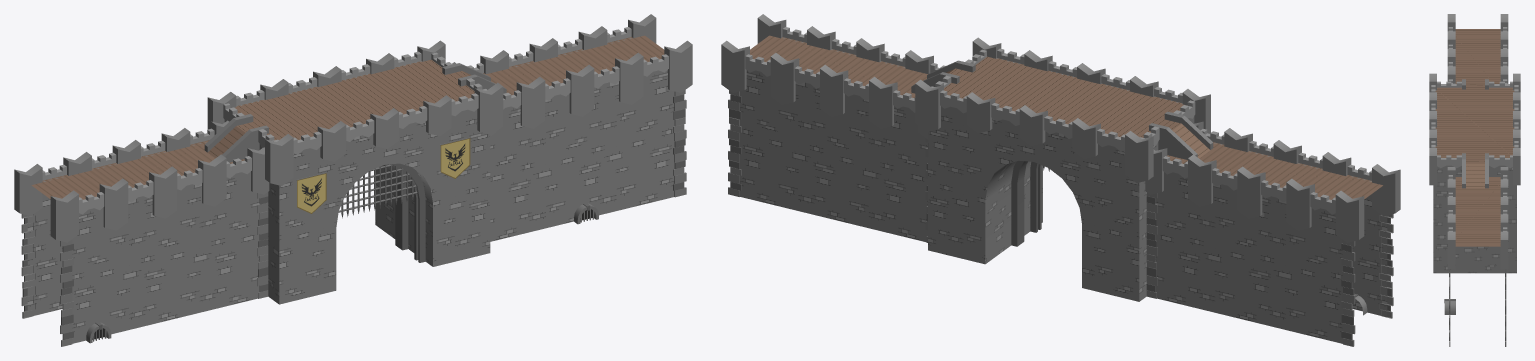
File: gate.gltf
The picture shows the model from 3 angles, left to right: view 1: azimuth 30°, elevation 25°; view 2: azimuth 150°, elevation 25°; view 3: azimuth 270°, elevation 25°; orthographic projection. The views are drawn at different scales.
Visible parts, largest first — view 1: gate; view 2: gate; view 3: gate.
Part boxes in pixels (x1=…): gate: x1=14, y1=14, x2=692, y2=346; gate: x1=721, y1=14, x2=1400, y2=346; gate: x1=1429, y1=14, x2=1520, y2=346.
Size of the model in its own units: 59.5 by 14.85 by 10.16.
11 materials, 3 textured.
